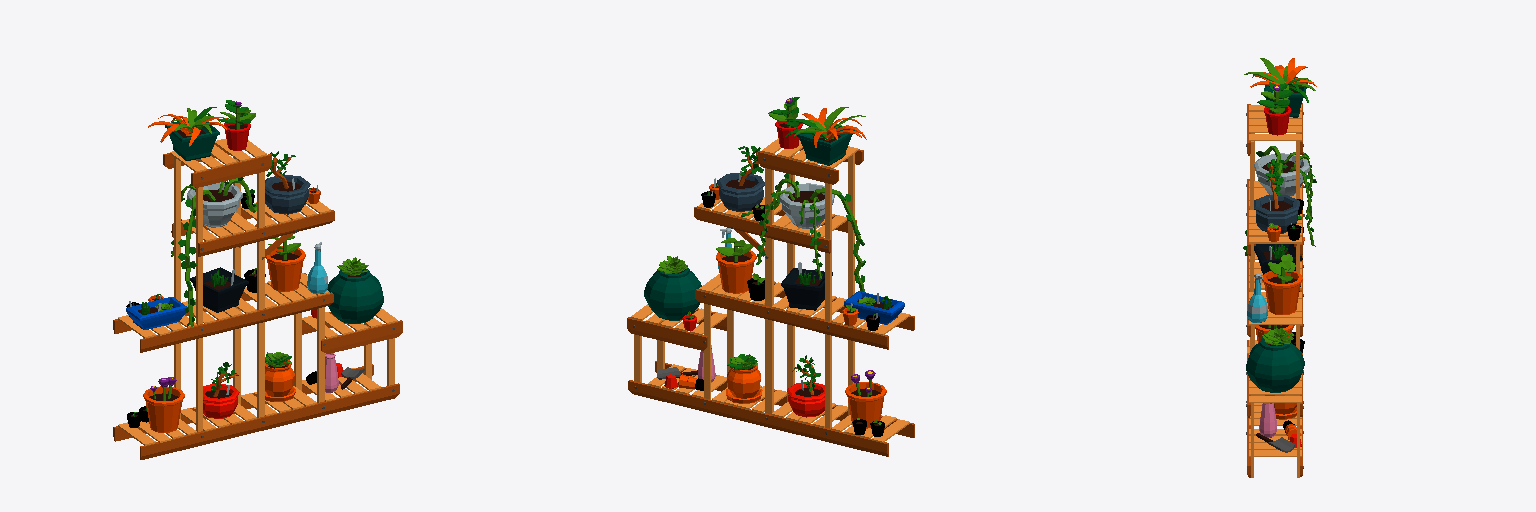
3 views of the same model, side by side, from view 1: azimuth 30°, elevation 25°; view 2: azimuth 150°, elevation 25°; view 3: azimuth 270°, elevation 25° (orthographic).
Parts seen in each view (by area): view 1: group[number redacted], group[number redacted], group[number redacted], group[number redacted], group[number redacted], group[number redacted], group[number redacted], group[number redacted], group[number redacted], group[number redacted], group[number redacted], group[number redacted] (+2 smaller); view 2: group[number redacted], group[number redacted], group[number redacted], group[number redacted], group[number redacted], group[number redacted], group[number redacted], group[number redacted], group[number redacted], group[number redacted], group[number redacted], group[number redacted] (+1 smaller); view 3: group[number redacted], group[number redacted], group[number redacted], group[number redacted], group[number redacted], group[number redacted], group[number redacted], group[number redacted], group[number redacted].
Boxes of the visible parts, x1=… form: group[number redacted]: x1=113, y1=139, x2=402, y2=459; group[number redacted]: x1=327, y1=257, x2=383, y2=323; group[number redacted]: x1=148, y1=107, x2=228, y2=160; group[number redacted]: x1=265, y1=151, x2=310, y2=214; group[number redacted]: x1=143, y1=377, x2=184, y2=432; group[number redacted]: x1=190, y1=267, x2=248, y2=312; group[number redacted]: x1=265, y1=235, x2=305, y2=291; group[number redacted]: x1=203, y1=362, x2=239, y2=418; group[number redacted]: x1=265, y1=352, x2=295, y2=401; group[number redacted]: x1=187, y1=182, x2=242, y2=227; group[number redacted]: x1=126, y1=297, x2=187, y2=329; group[number redacted]: x1=219, y1=100, x2=255, y2=150; group[number redacted]: x1=627, y1=138, x2=914, y2=456; group[number redacted]: x1=644, y1=256, x2=701, y2=320; group[number redacted]: x1=785, y1=107, x2=866, y2=165; group[number redacted]: x1=717, y1=146, x2=764, y2=211; group[number redacted]: x1=716, y1=238, x2=756, y2=293; group[number redacted]: x1=781, y1=262, x2=832, y2=310; group[number redacted]: x1=845, y1=370, x2=886, y2=428; group[number redacted]: x1=726, y1=354, x2=762, y2=403; group[number redacted]: x1=787, y1=355, x2=824, y2=417; group[number redacted]: x1=780, y1=183, x2=834, y2=228; group[number redacted]: x1=844, y1=291, x2=904, y2=324; group[number redacted]: x1=768, y1=97, x2=802, y2=148; group[number redacted]: x1=1246, y1=103, x2=1304, y2=477; group[number redacted]: x1=1246, y1=328, x2=1304, y2=392; group[number redacted]: x1=1262, y1=254, x2=1302, y2=314; group[number redacted]: x1=1254, y1=159, x2=1299, y2=233; group[number redacted]: x1=1244, y1=58, x2=1316, y2=117; group[number redacted]: x1=1257, y1=82, x2=1293, y2=135; group[number redacted]: x1=1254, y1=153, x2=1309, y2=196; group[number redacted]: x1=1254, y1=244, x2=1302, y2=274; group[number redacted]: x1=1247, y1=273, x2=1267, y2=322.
Size of the model in its own units: 1.84 by 2.16 by 0.4516.